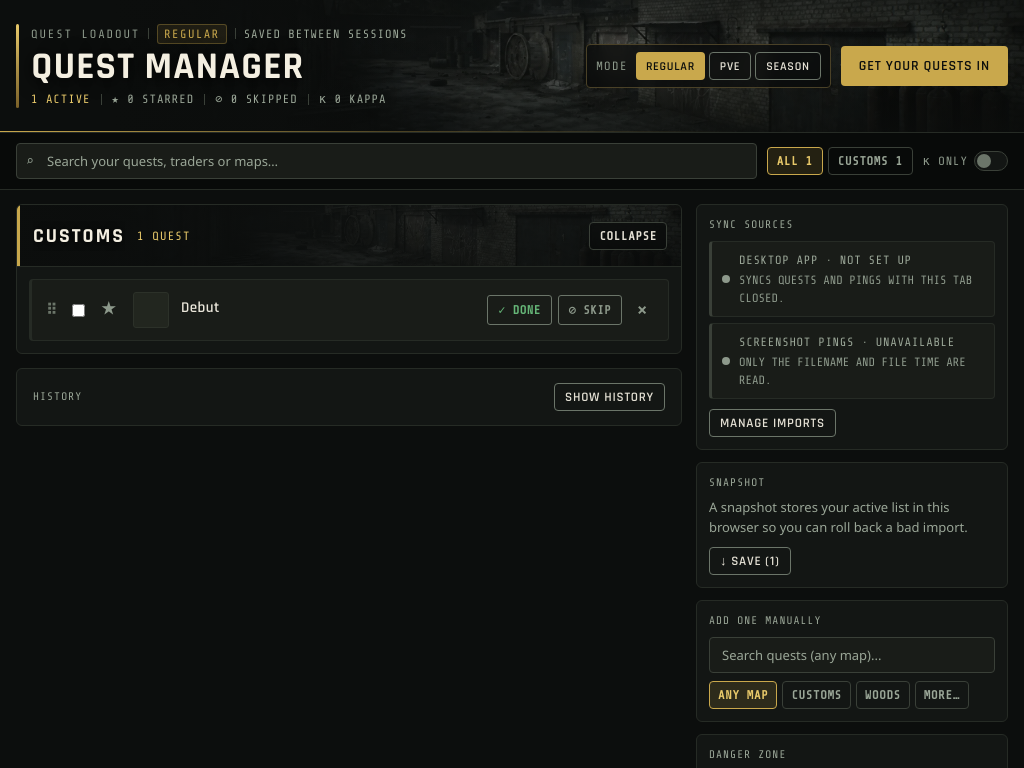
Test: MyQuests saved list › says so rather than rendering an empty group when a filter excludes everything
The image size is (1024, 768).
Type "nothing" into the field labelled "Search your quests" at (386, 161), box [16,143,757,179]
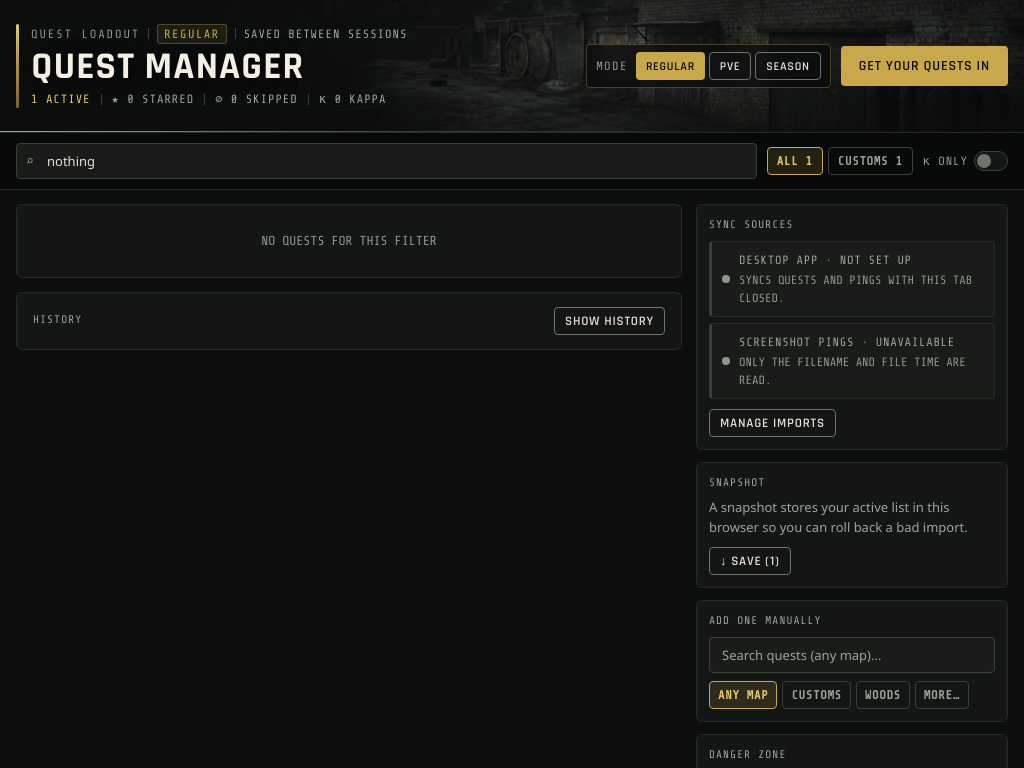
Check: the text "NO QUESTS FOR THIS FILTER" is shown, box [261,233,437,248]
